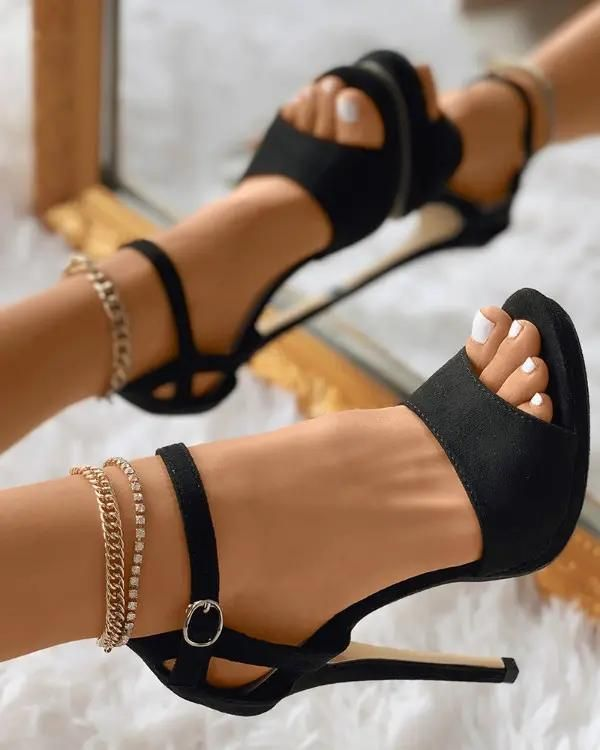gamuza: (403, 288, 589, 585)
